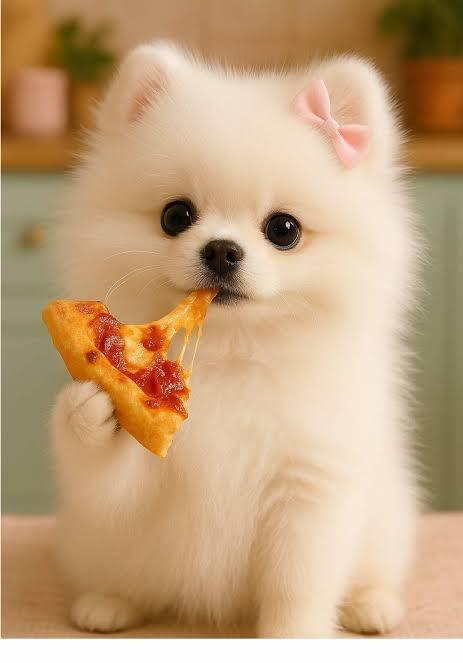puppy-dog: (45, 37, 427, 640)
